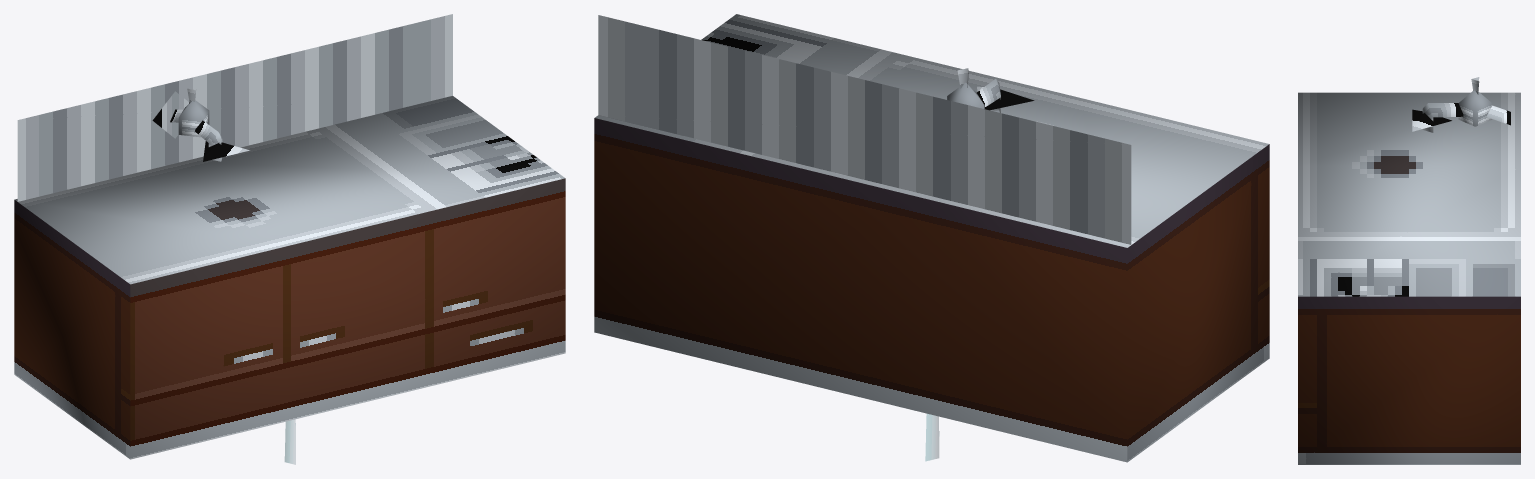
3 renders of one model, left to right at view 1: azimuth 30°, elevation 25°; view 2: azimuth 150°, elevation 25°; view 3: azimuth 270°, elevation 25°, orthographic. The views are drawn at different scales.
Visible parts, largest first — view 1: 3524IMOT01_05; view 2: 3524IMOT01_05; view 3: 3524IMOT01_05.
Boxes of the visible parts, bbox=[...] form: 3524IMOT01_05: bbox=[14, 14, 565, 464]; 3524IMOT01_05: bbox=[594, 14, 1269, 462]; 3524IMOT01_05: bbox=[1298, 77, 1520, 464].
Bounding box in the file's own units: 1.95 × 1.55 × 0.9001.
Materials: 4 (4 with a texture image).
